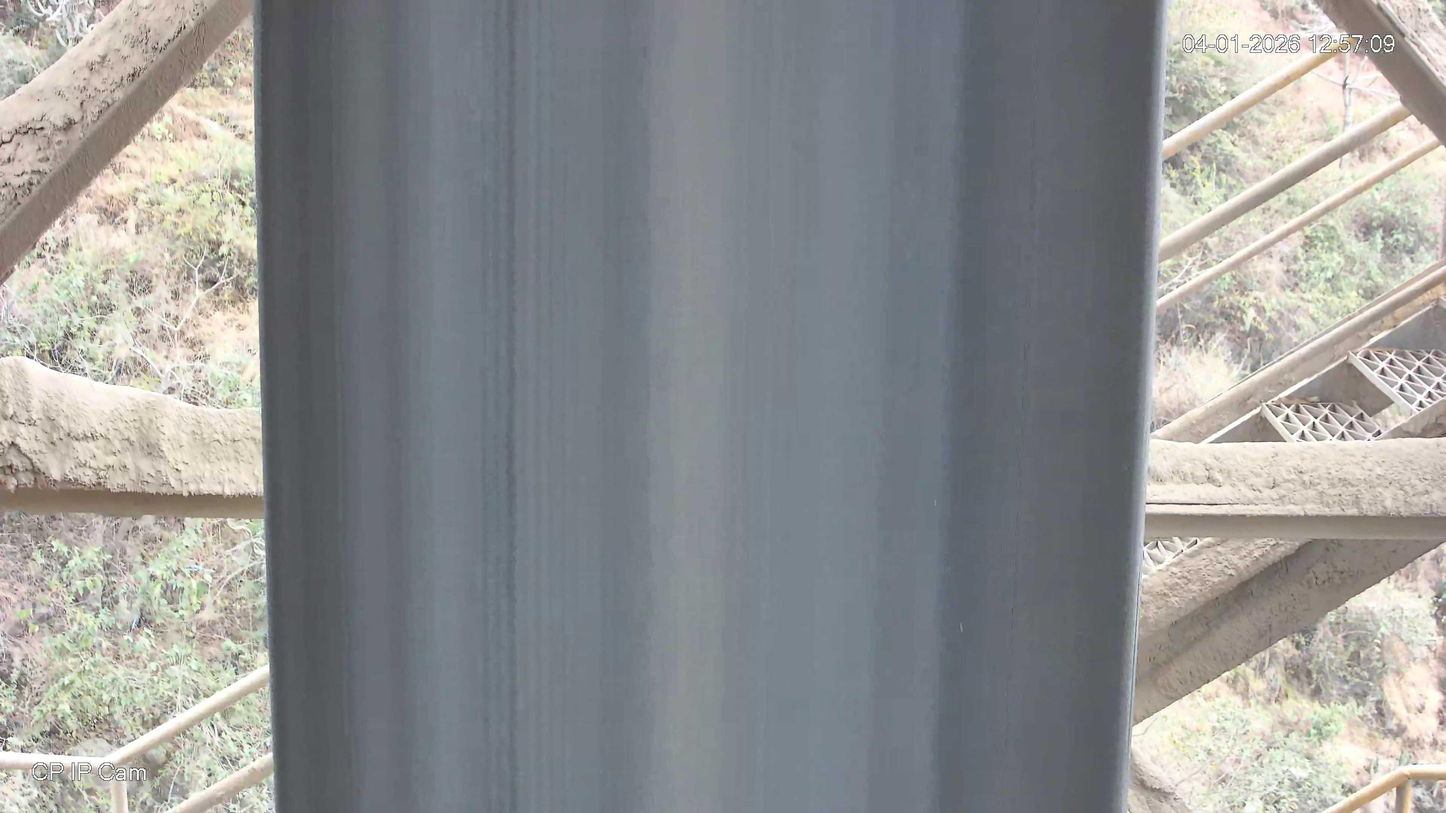belt_roi: (255, 0, 1171, 812)
